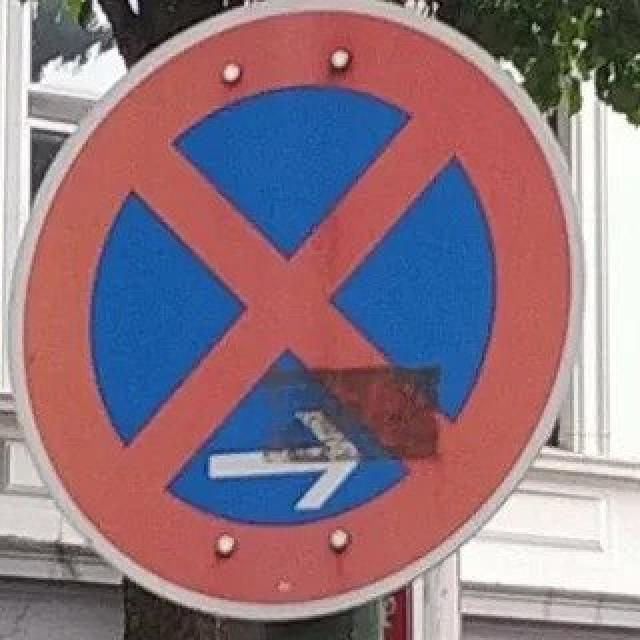no stopping: (2, 0, 593, 627)
